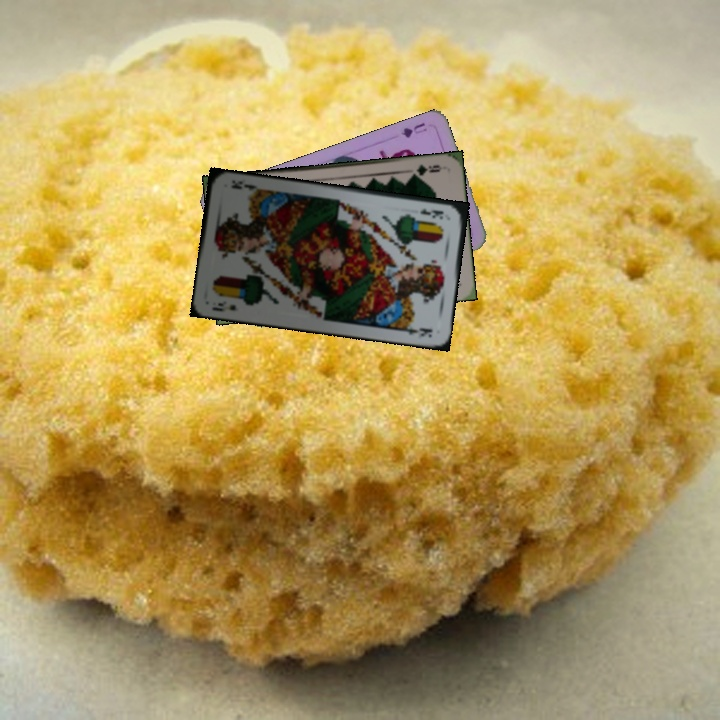EK: (208, 297, 241, 314), (416, 204, 446, 222)
G9: (407, 160, 444, 179)
GU: (397, 118, 429, 141)
